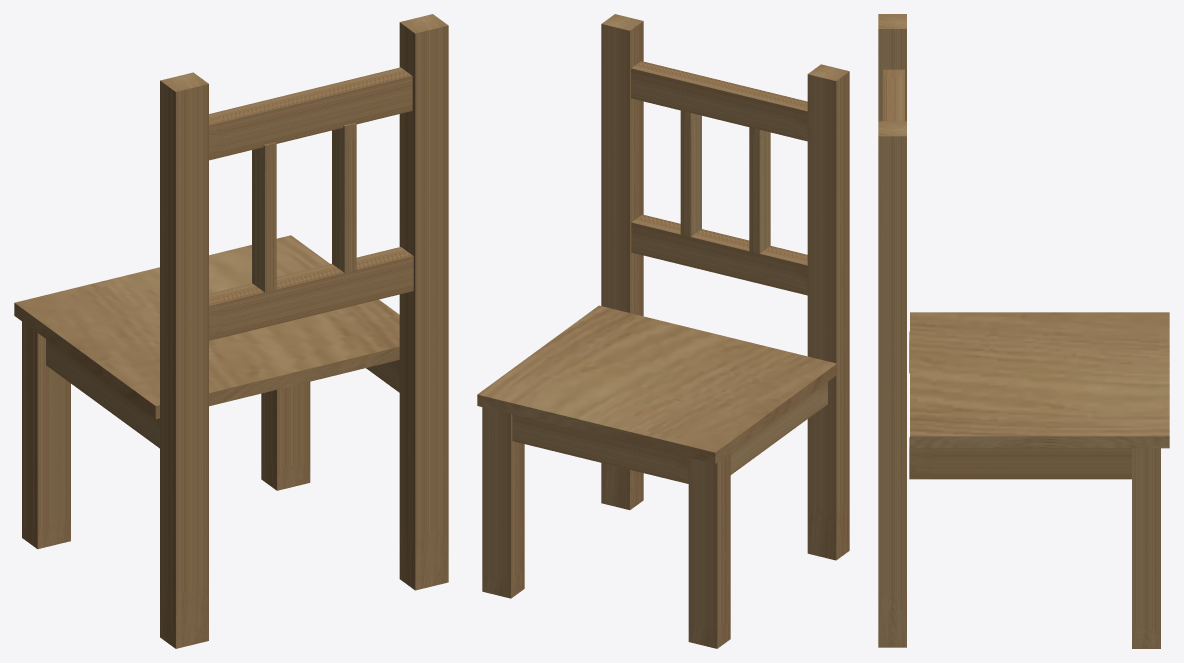
File: Silla.obj
3 renders of one model, left to right at view 1: azimuth 30°, elevation 25°; view 2: azimuth 150°, elevation 25°; view 3: azimuth 270°, elevation 25°, orthographic. The views are drawn at different scales.
Visible parts, largest first — view 1: Cubo.001; view 2: Cubo.001; view 3: Cubo.001.
Part boxes in pixels (x1,y1,x2,y2): Cubo.001: [14, 14, 448, 648]; Cubo.001: [477, 14, 849, 648]; Cubo.001: [878, 14, 1169, 648].
Size of the model in its own units: 1.01 by 1.95 by 1.
Materials: 1 (1 with a texture image).
